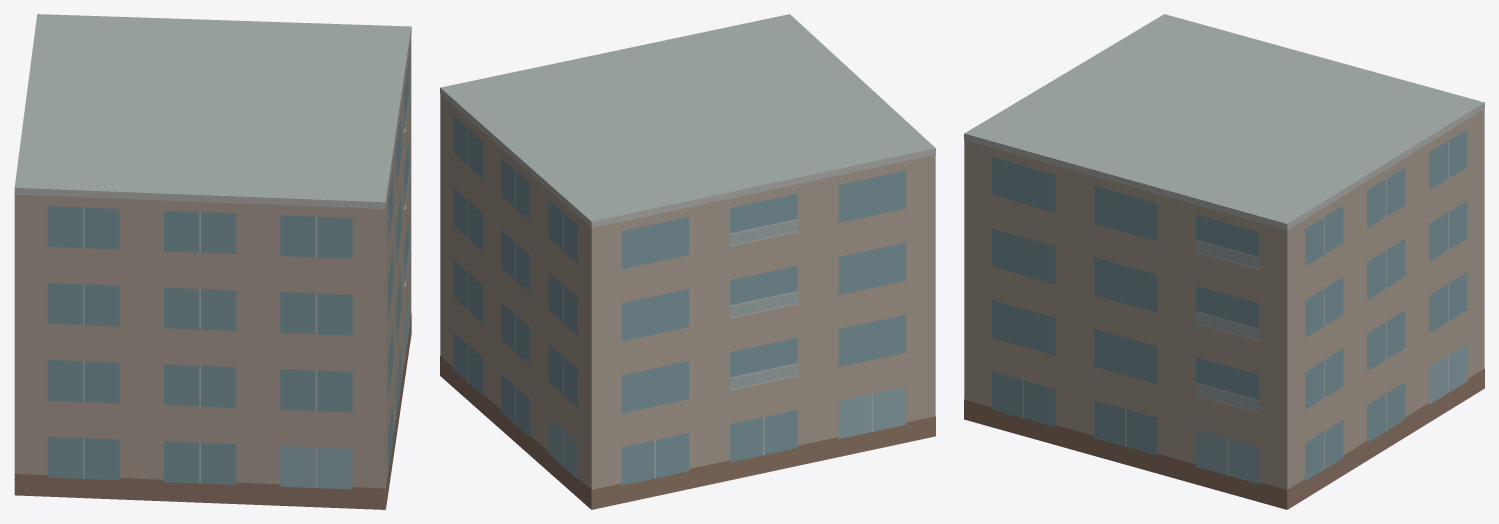
The model's file is survey-upis-32911944.glb.
3 renders of one model, left to right at view 1: azimuth 30°, elevation 25°; view 2: azimuth 150°, elevation 25°; view 3: azimuth 270°, elevation 25°, orthographic. The views are drawn at different scales.
Visible parts, largest first — view 1: survey-upis-32911944.tmp; view 2: survey-upis-32911944.tmp; view 3: survey-upis-32911944.tmp.
Boxes of the visible parts, bbox=[...] form: survey-upis-32911944.tmp: bbox=[14, 14, 411, 509]; survey-upis-32911944.tmp: bbox=[440, 14, 935, 509]; survey-upis-32911944.tmp: bbox=[964, 14, 1484, 509].
Bounding box in the file's own units: 17.1 × 10.85 × 17.92.
